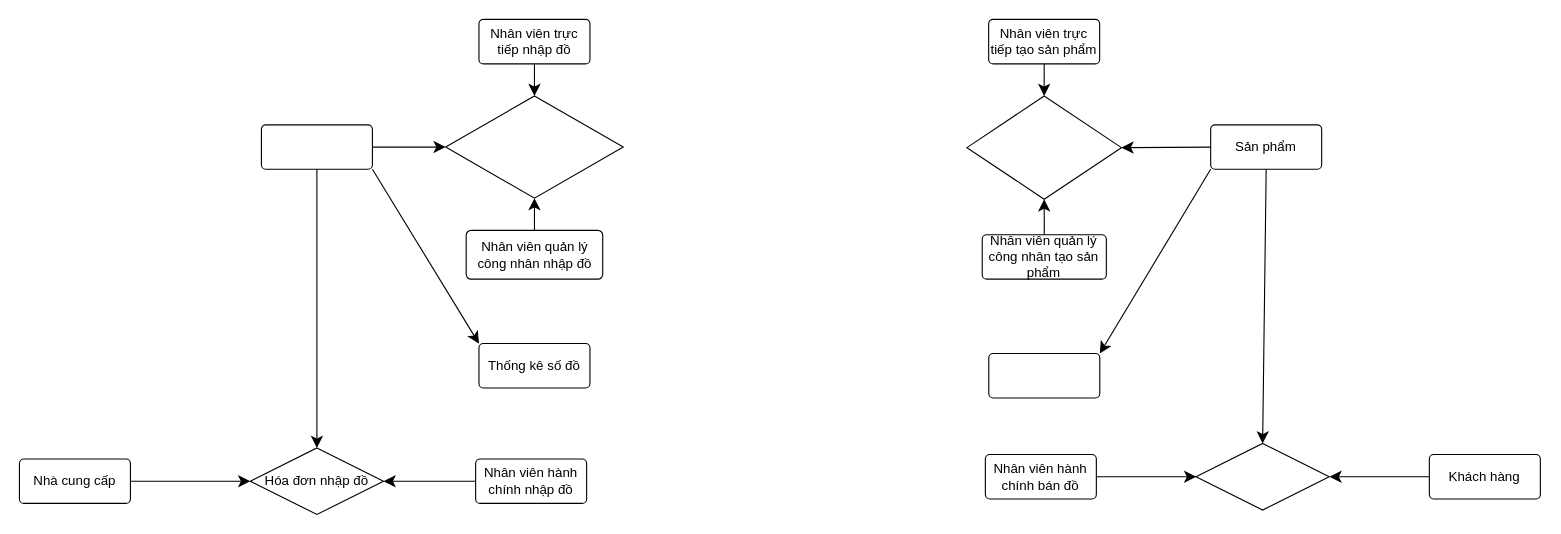
Some shapes in this 1561 by 534 pixel diagram are drawn without their labels. Each missing label, with the centre of its shape:
"Hóa đơn bán đồ" belongs at (1262,476).
"Nguyên liệu" belongs at (316,146).
"Quản lý việc lấy đồ và tạo sản phẩm của công nhân" belongs at (1043,147).
"Quản lý việc nhập đồ của công nhân" belongs at (534,146).
"Thống kê số sản phẩm" belongs at (1044,375).
